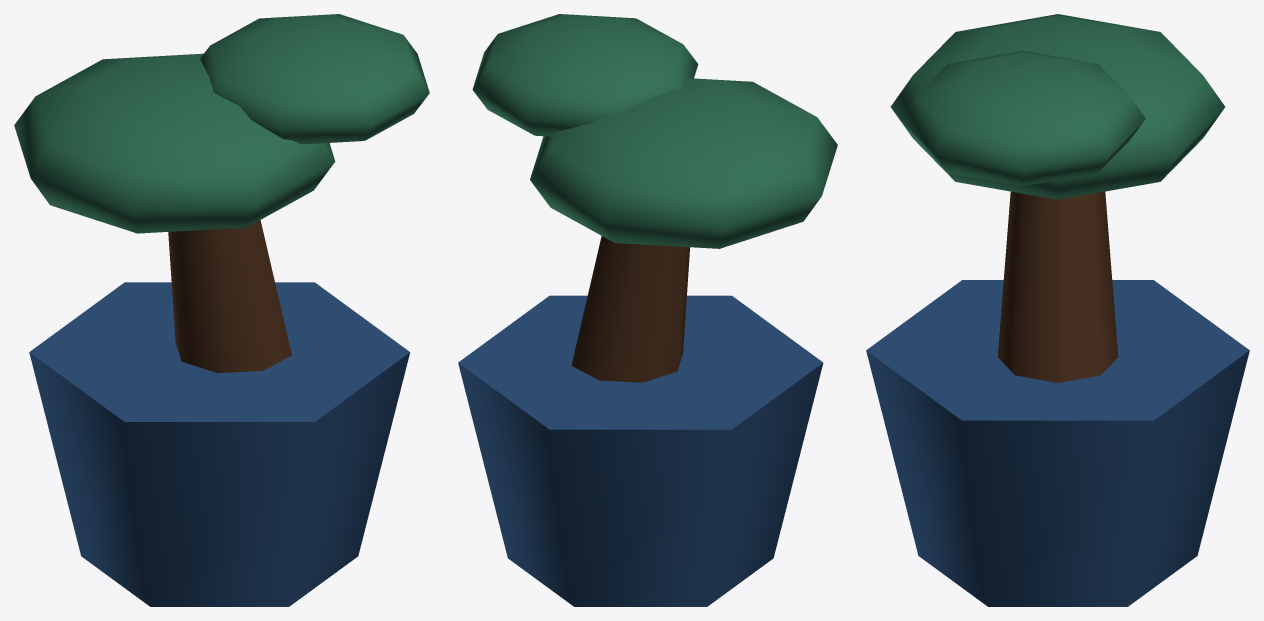
Rendered from CB_PROP_VN_BonsaiPot_A.glb.
3 views of the same model, side by side, from view 1: azimuth 30°, elevation 25°; view 2: azimuth 150°, elevation 25°; view 3: azimuth 270°, elevation 25° (orthographic). The views are drawn at different scales.
Parts seen in each view (by area): view 1: CB_PROP_VN_BonsaiPot_A; view 2: CB_PROP_VN_BonsaiPot_A; view 3: CB_PROP_VN_BonsaiPot_A.
Boxes of the visible parts, box(x1,y1,x2,y2) form: CB_PROP_VN_BonsaiPot_A: box(14, 14, 429, 606); CB_PROP_VN_BonsaiPot_A: box(458, 14, 837, 606); CB_PROP_VN_BonsaiPot_A: box(866, 14, 1249, 606).
Bounding box in the file's own units: 1.23 × 1.64 × 1.1.
